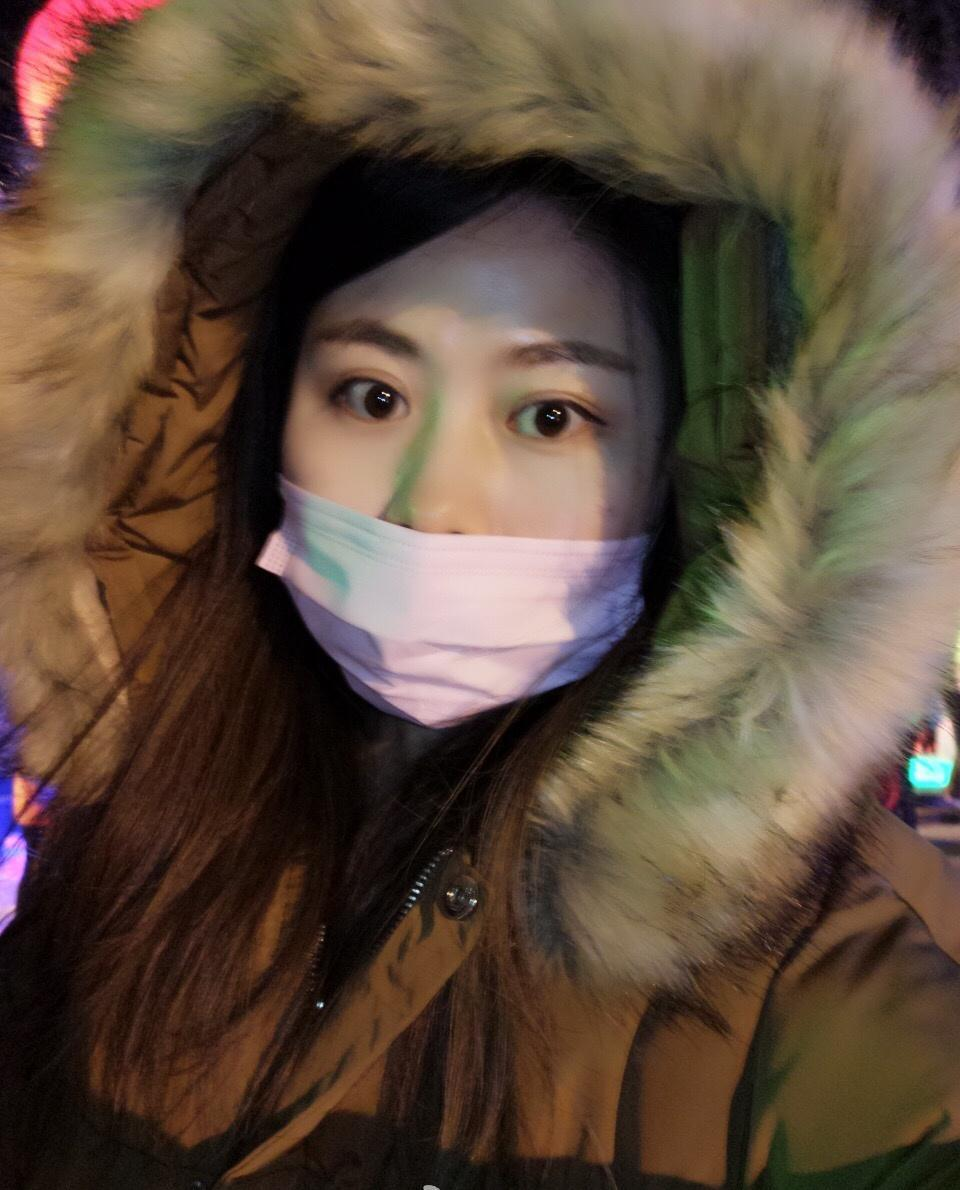WRONG: (252, 291, 649, 708)
